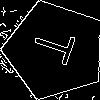T: (30, 25, 86, 70)
